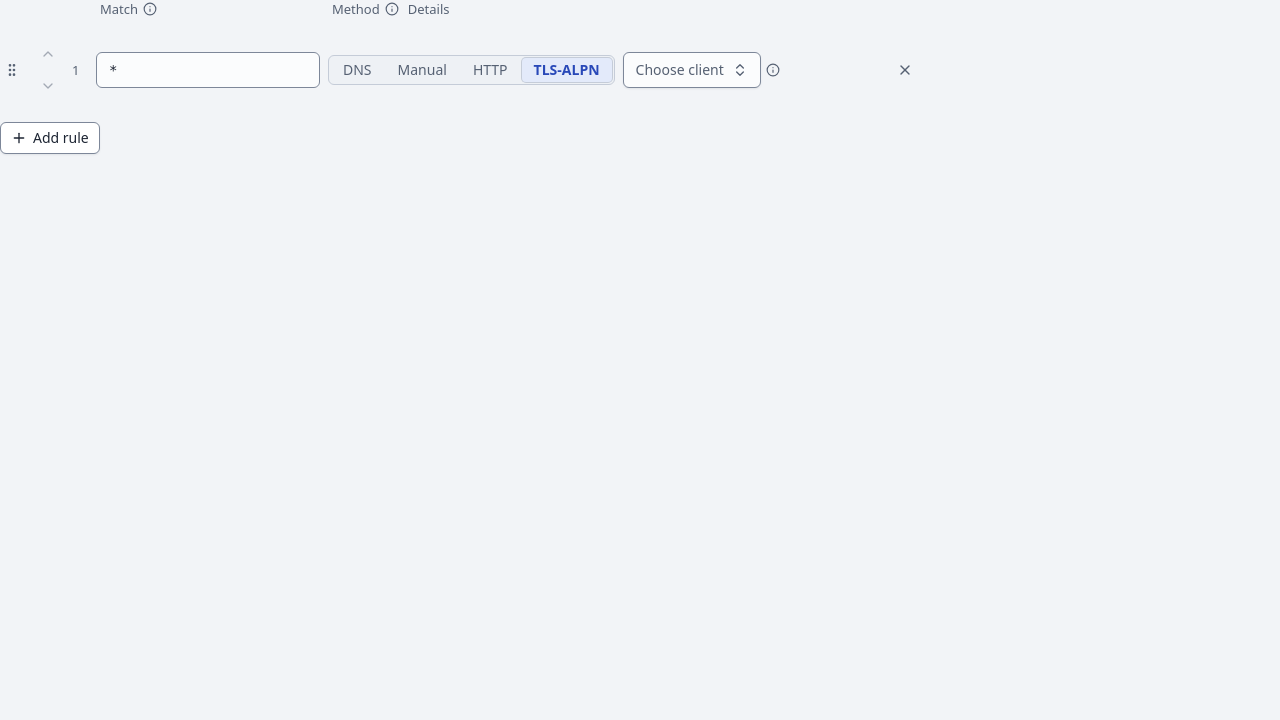
Test: the Global tab has no clients (FieldCtx.clients: [] there) › a TLS-ALPN row shows the empty text instead of any client
Click the dropdown named "Rule 1 client" at (692, 70), box [623,52,761,88]
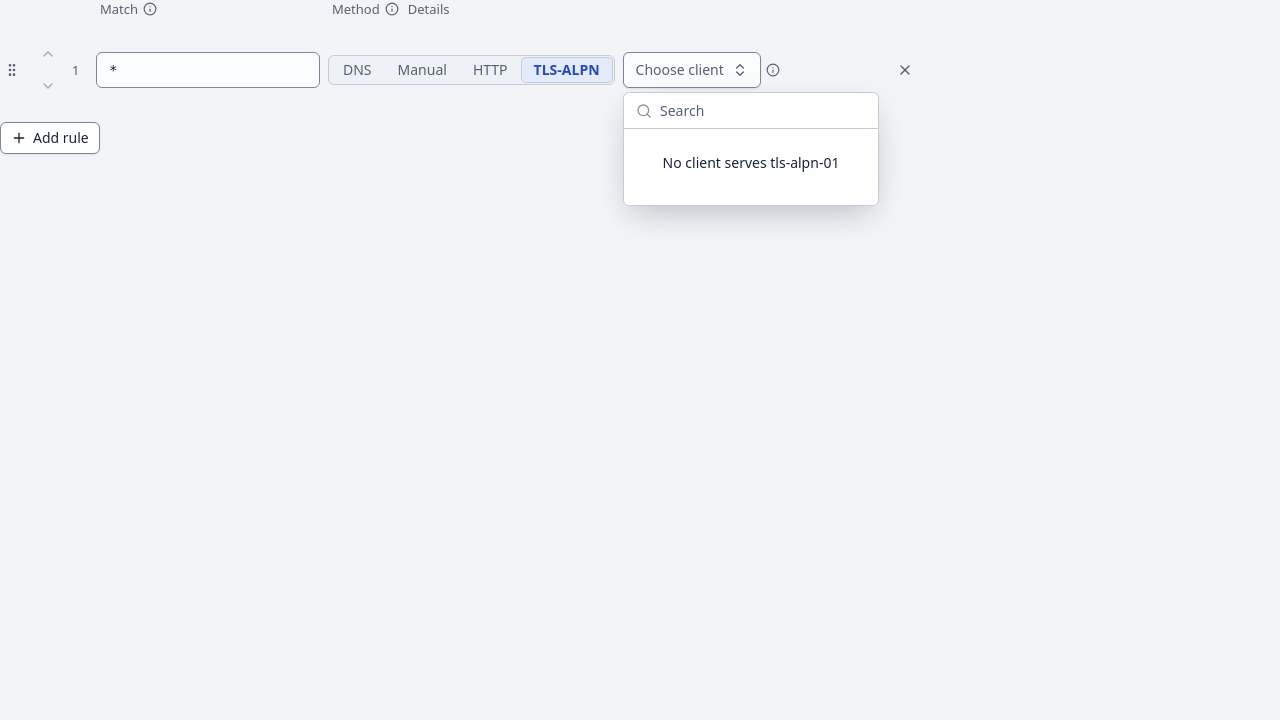
Expected: the text "No client serves tls-alpn-01" is shown, [663,153,839,172]
